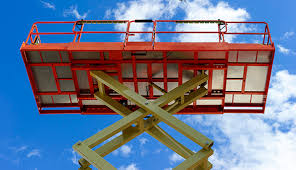Scissor Lift: (19, 19, 277, 170)
